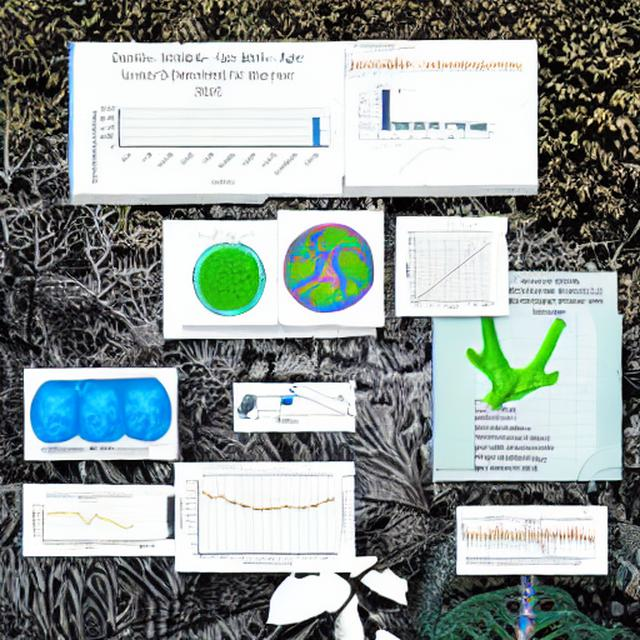Graph: (84, 45, 329, 191), (176, 469, 340, 570), (402, 232, 495, 312), (30, 493, 138, 552), (342, 44, 413, 85), (458, 516, 514, 555)
